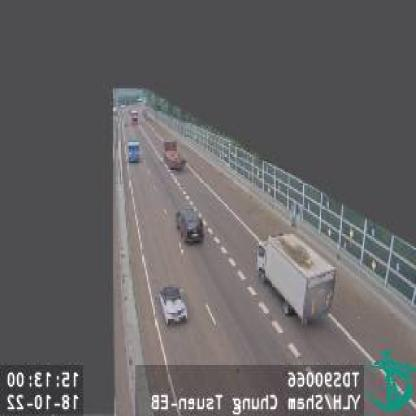Car: (158, 284, 188, 328), (174, 206, 204, 245), (124, 140, 141, 164)
Truck: (256, 232, 338, 325), (161, 138, 186, 174)
